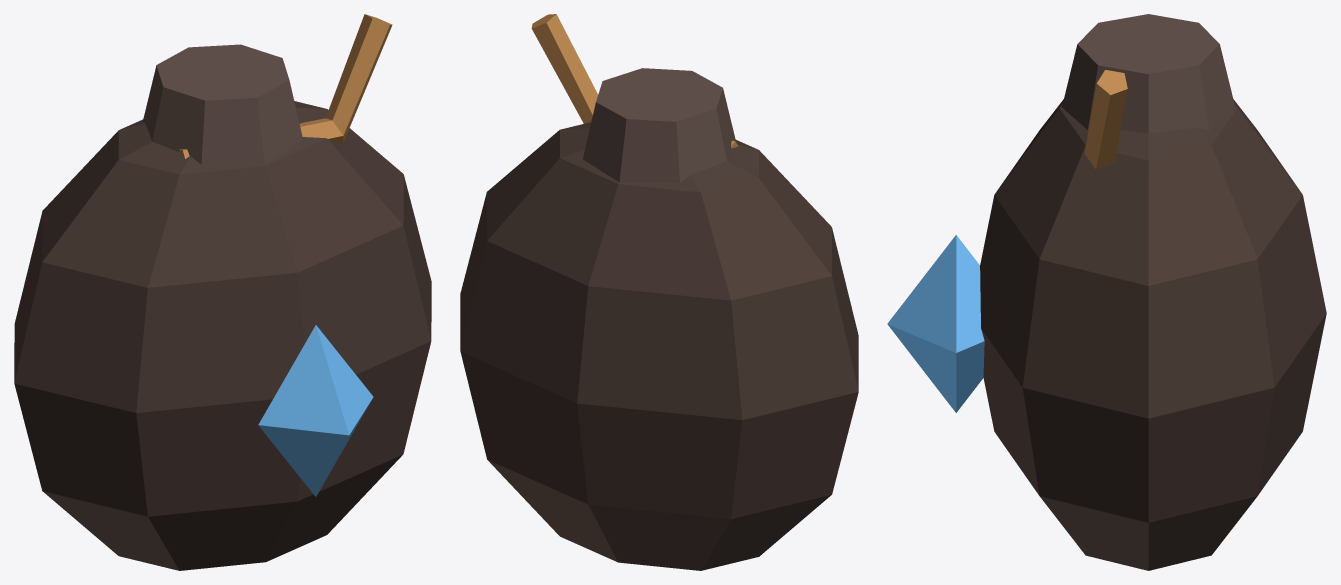
The model's file is slowing_powder.glb.
3 views of the same model, side by side, from view 1: azimuth 30°, elevation 25°; view 2: azimuth 150°, elevation 25°; view 3: azimuth 270°, elevation 25° (orthographic). The views are drawn at different scales.
Visible parts, largest first — view 1: slowing_powder_Mesh; view 2: slowing_powder_Mesh; view 3: slowing_powder_Mesh.
Boxes of the visible parts, x1,y1,x2,y2 form: slowing_powder_Mesh: (14,14,431,570); slowing_powder_Mesh: (460,14,858,570); slowing_powder_Mesh: (887,14,1326,570).
Size of the model in its own units: 0.42 by 0.5066 by 0.3701.
